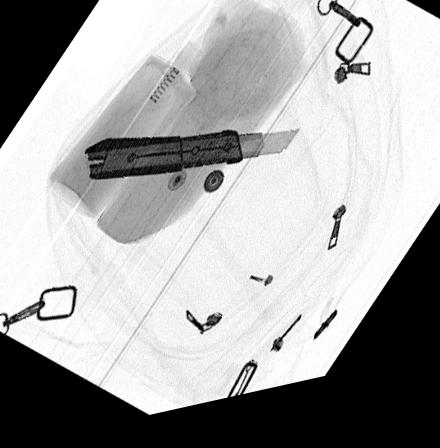Knife: (83, 139, 299, 185)
